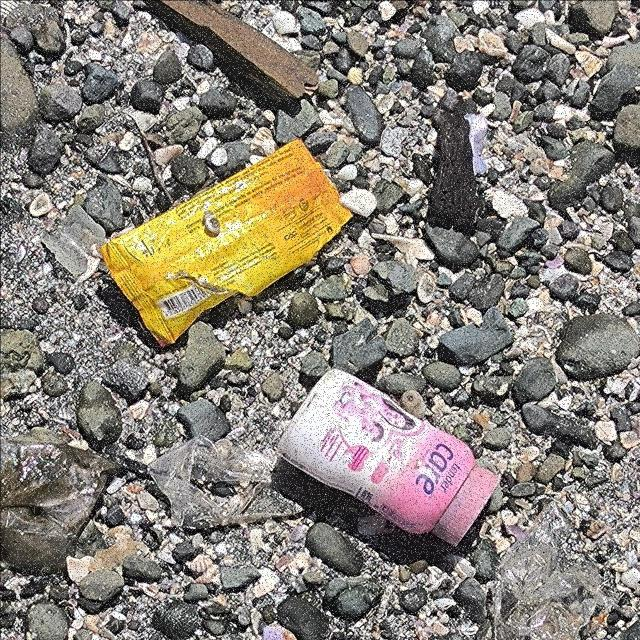plastic_waste: (92, 137, 356, 353), (275, 369, 504, 546)
